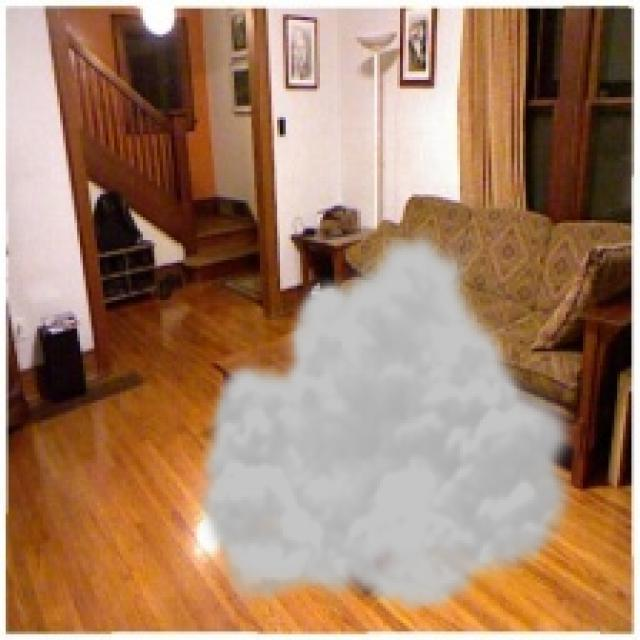Smoke: (191, 222, 586, 618)
